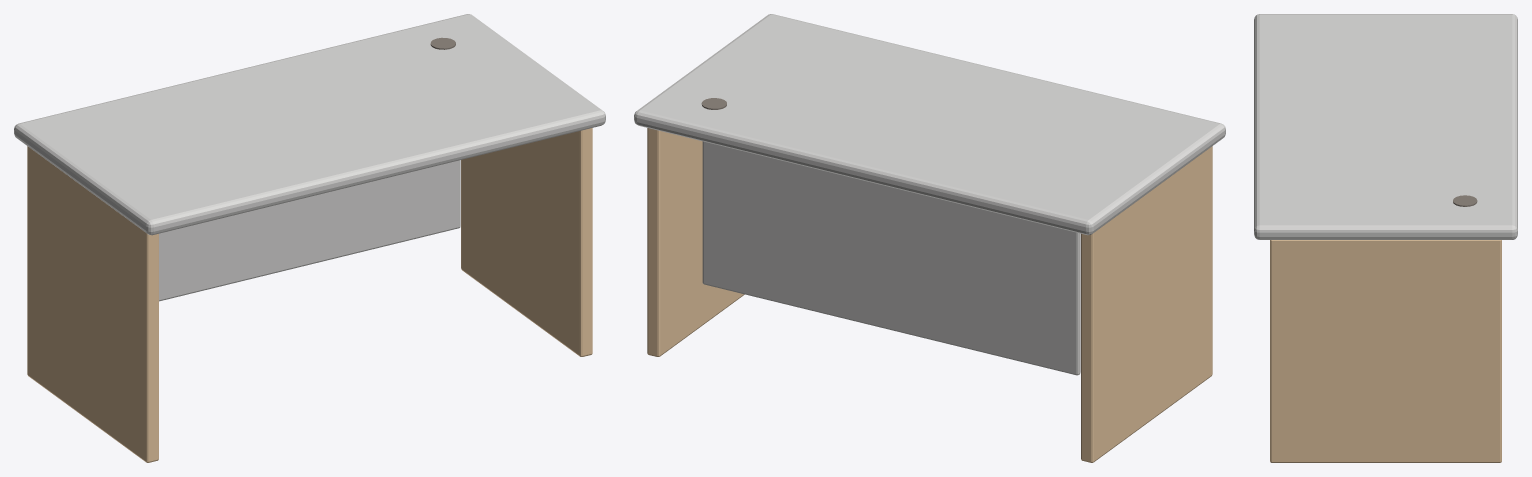
File: isometric_workstation_variations_guide_17.glb
3 views of the same model, side by side, from view 1: azimuth 30°, elevation 25°; view 2: azimuth 150°, elevation 25°; view 3: azimuth 270°, elevation 25° (orthographic). The views are drawn at different scales.
Visible parts, largest first — view 1: Cube; view 2: Cube; view 3: Cube.
Part boxes in pixels (x1=…): Cube: x1=14, y1=14, x2=605, y2=462; Cube: x1=634, y1=14, x2=1225, y2=462; Cube: x1=1254, y1=14, x2=1517, y2=462.
Size of the model in its own units: 1.45 by 0.754 by 0.75.
